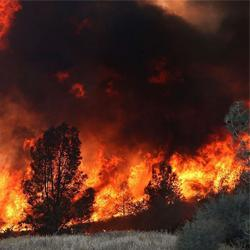fire: (173, 151, 239, 192), (89, 173, 150, 211), (0, 176, 22, 226)
